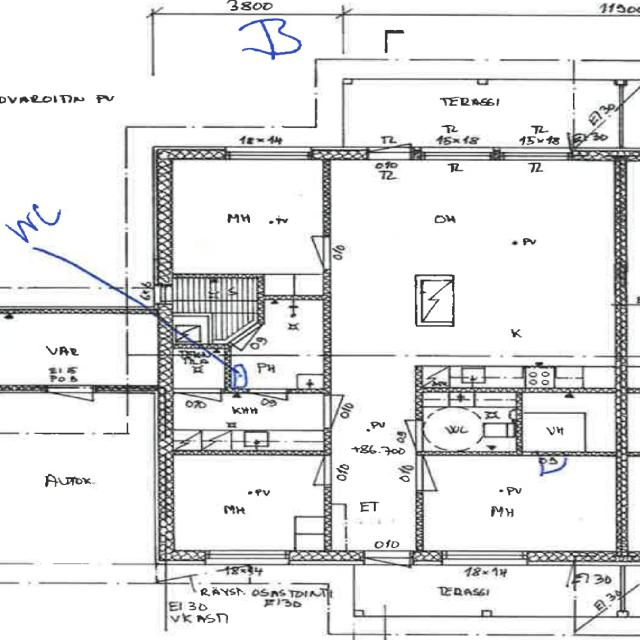door: (362, 549, 410, 598), (229, 322, 286, 362), (366, 114, 412, 160), (274, 234, 332, 270), (45, 386, 93, 427), (416, 458, 470, 490), (324, 396, 377, 427), (177, 388, 220, 423), (284, 457, 332, 485), (377, 420, 424, 448), (536, 451, 571, 481), (252, 388, 286, 417)
